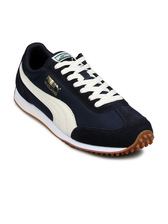shoes: (13, 39, 154, 160)
